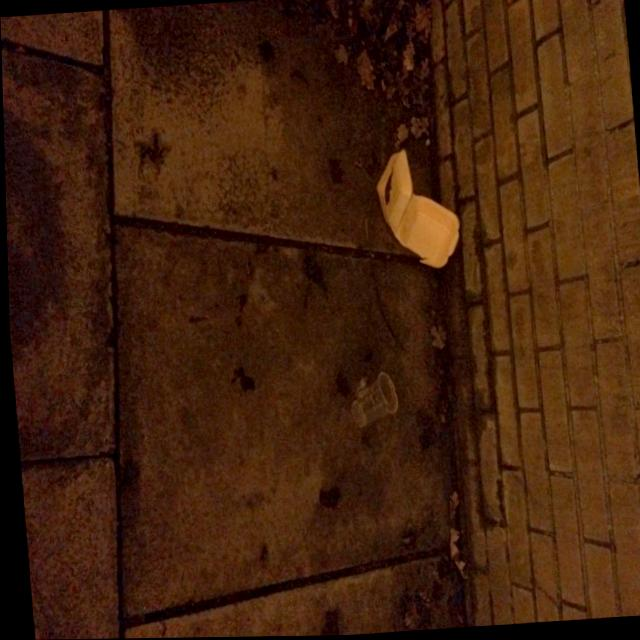Plastic: (368, 143, 466, 275), (340, 367, 401, 432)
